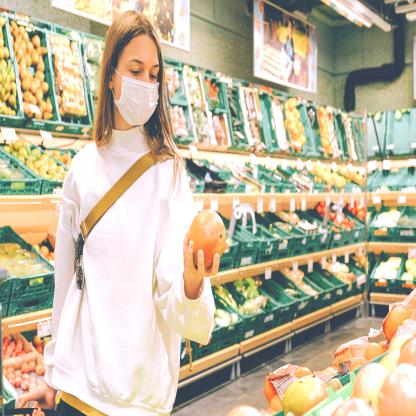dress: (43, 124, 207, 414), (106, 63, 160, 131)
